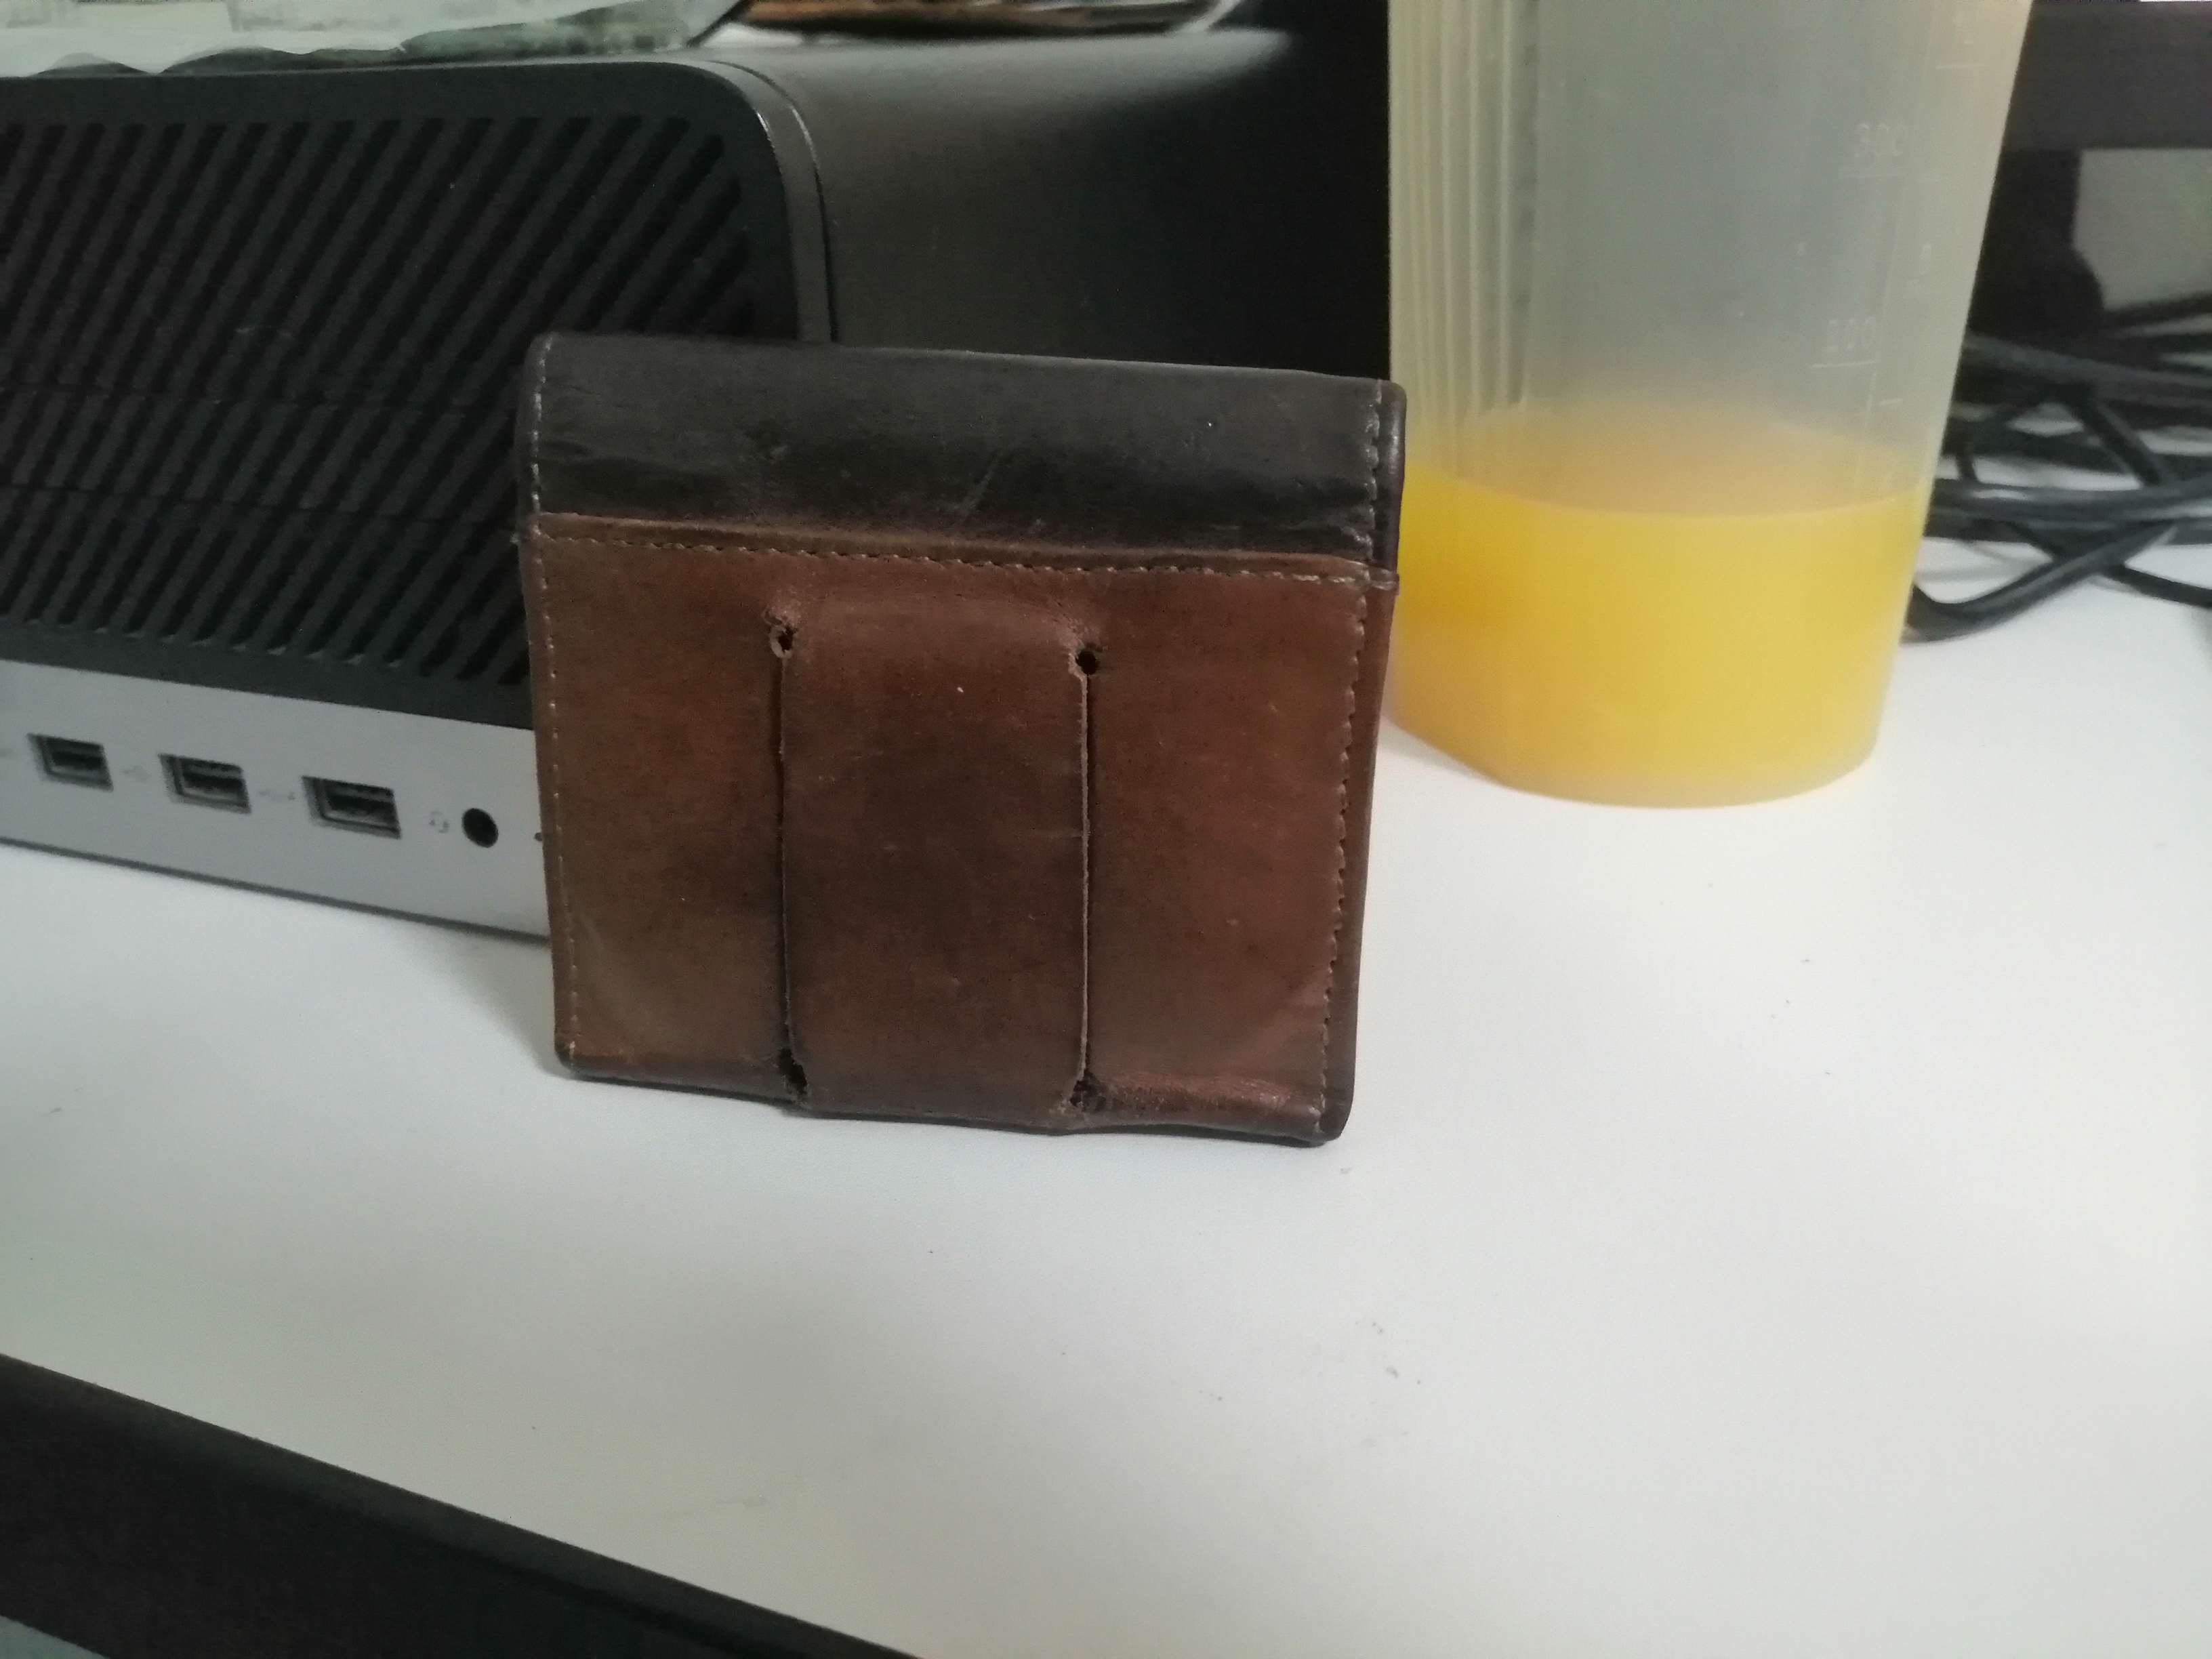monedero: (467, 305, 1440, 1188)
